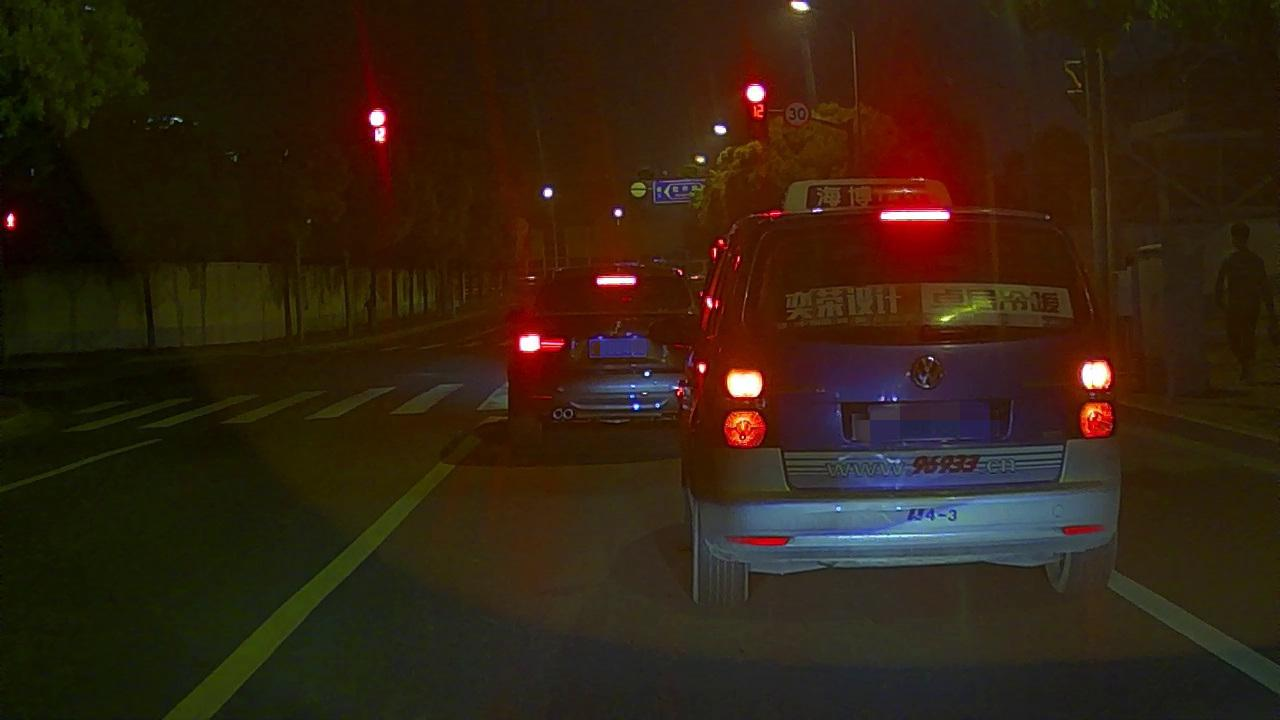traffic_light: (746, 85, 765, 139), (369, 109, 386, 144)
